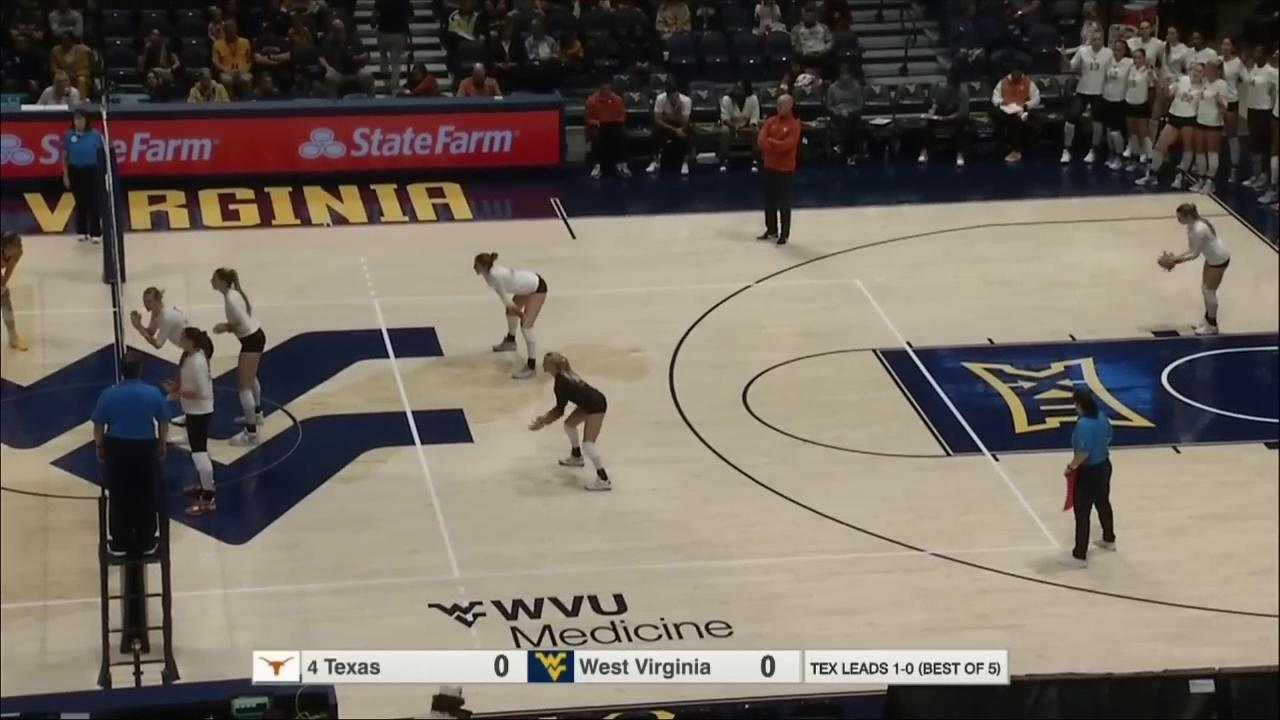player: (533, 353, 615, 490), (135, 287, 205, 443), (212, 267, 267, 443), (1154, 201, 1229, 330), (472, 253, 548, 379), (170, 327, 219, 513), (0, 228, 30, 349)
refree: (94, 353, 171, 554), (1064, 391, 1119, 566), (60, 111, 109, 242)
